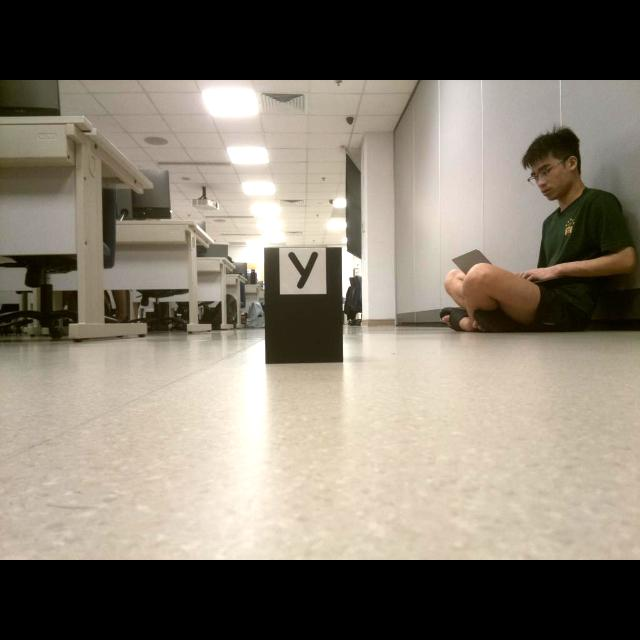Y: (288, 252, 318, 288)
